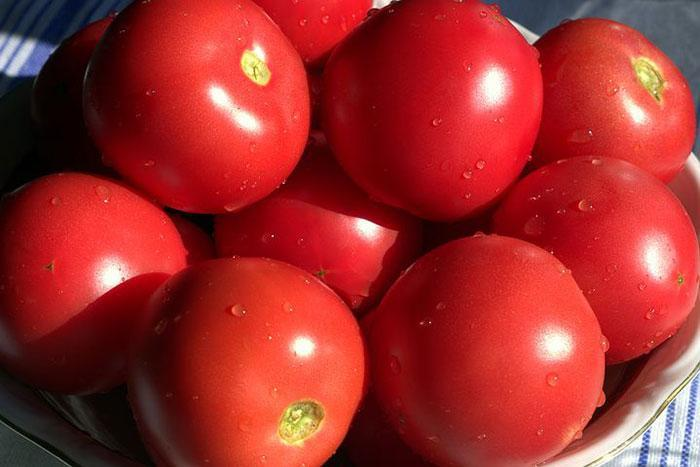healthy-tomato: (362, 235, 609, 466), (323, 6, 546, 226), (492, 157, 700, 383), (97, 2, 314, 215), (151, 258, 371, 467), (1, 172, 195, 398), (529, 19, 697, 191), (239, 190, 426, 315)
